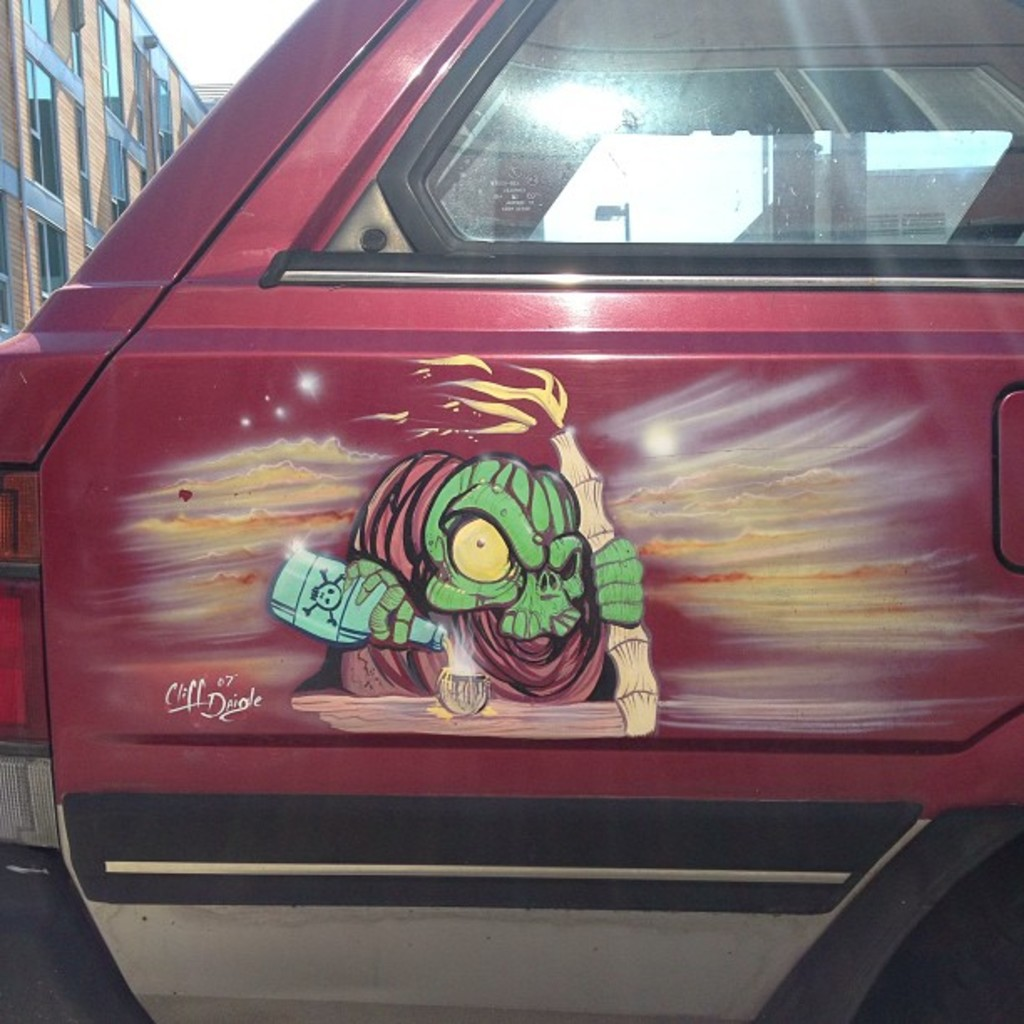Car: (0, 0, 1022, 1022)
